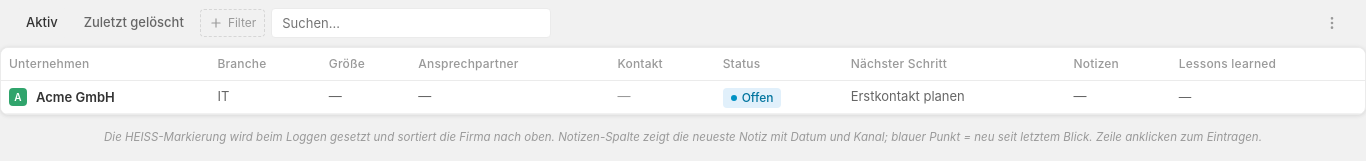
Scenario: CompanyTable › manual add + inline editing (DB-07, D-05/06/07) › Enter commits and the new value becomes visible after the parent re-renders
Click the text "IT" at (265, 97), box [209, 80, 321, 114]
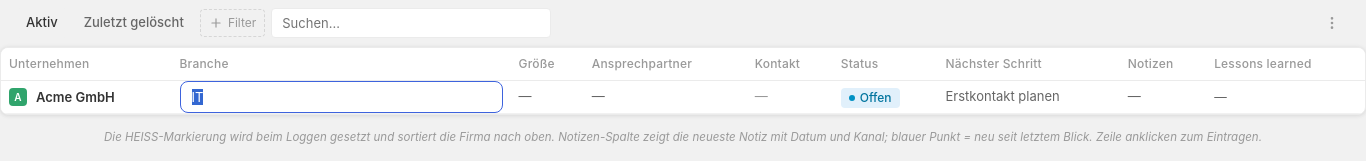
Replace the text in the field showing "IT" with "Beratung" at (341, 97), box [180, 81, 502, 113]
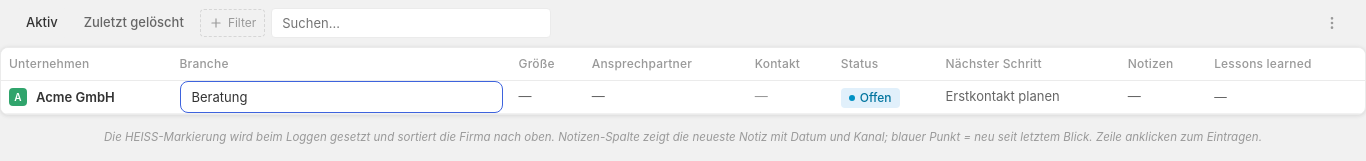
Press Enter in the field showing "IT", box [180, 81, 502, 113]
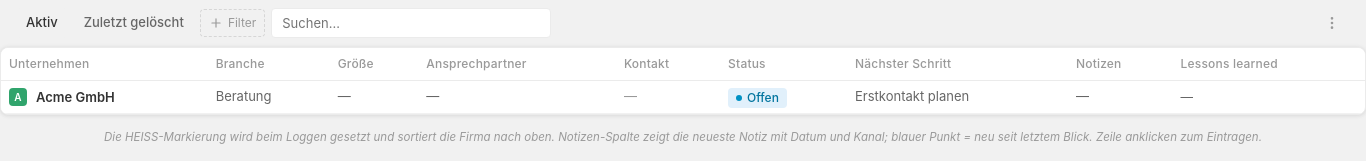
Check: the text "Beratung" is shown, box [208, 80, 330, 114]
